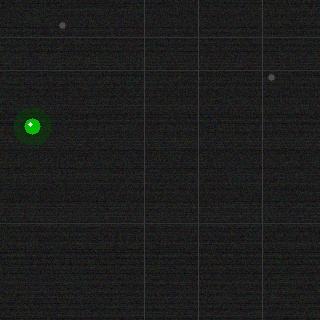green_normal: (22, 116, 42, 136)
